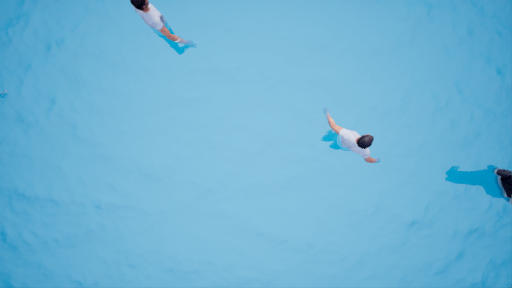person: (312, 105, 385, 171), (126, 1, 202, 59), (439, 158, 512, 202)
